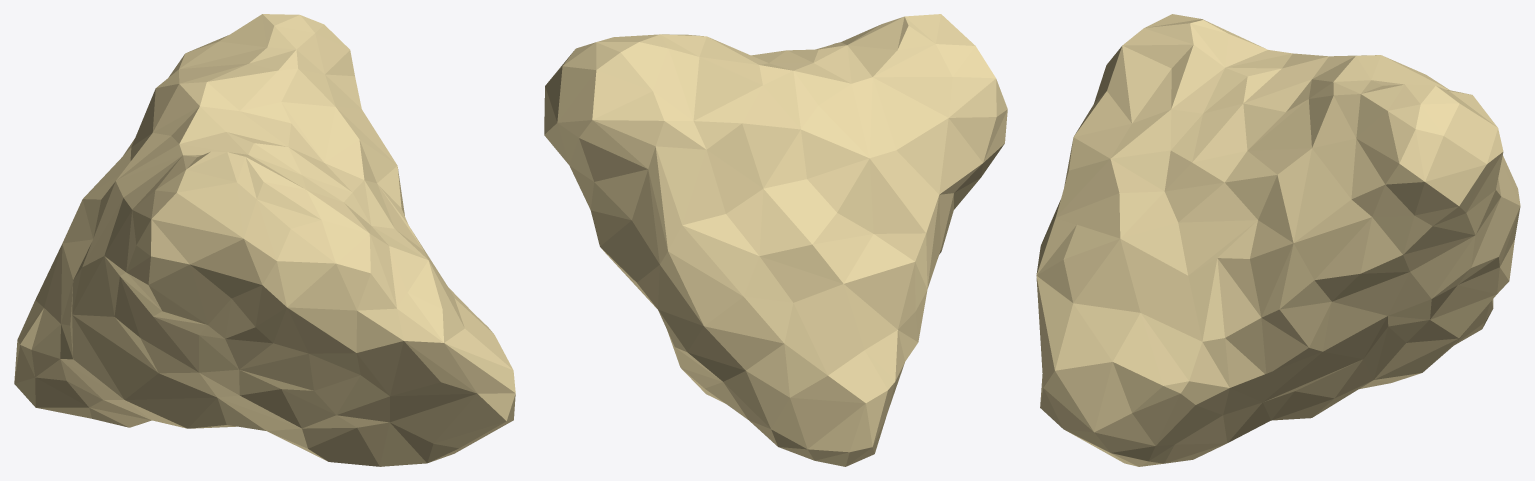
The model's file is Asteroid (43).fbx.
The picture shows the model from 3 angles, left to right: view 1: azimuth 30°, elevation 25°; view 2: azimuth 150°, elevation 25°; view 3: azimuth 270°, elevation 25°; orthographic projection. The views are drawn at different scales.
Visible parts, largest first — view 1: Asteroid205; view 2: Asteroid205; view 3: Asteroid205.
Boxes of the visible parts, box(x1,y1,x2,y2) form: Asteroid205: box(14, 14, 515, 466); Asteroid205: box(544, 14, 1007, 466); Asteroid205: box(1036, 14, 1520, 466).
Size of the model in its own units: 346 by 340 by 402.
